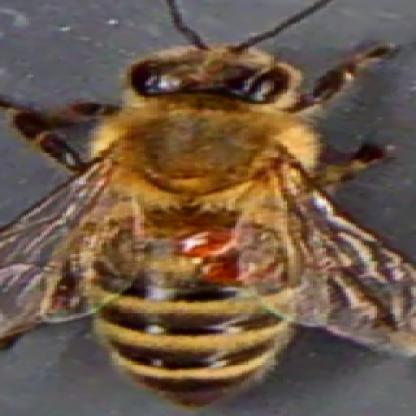bee: (96, 35, 306, 400)
vaoora: (199, 259, 266, 284), (181, 232, 241, 252)
